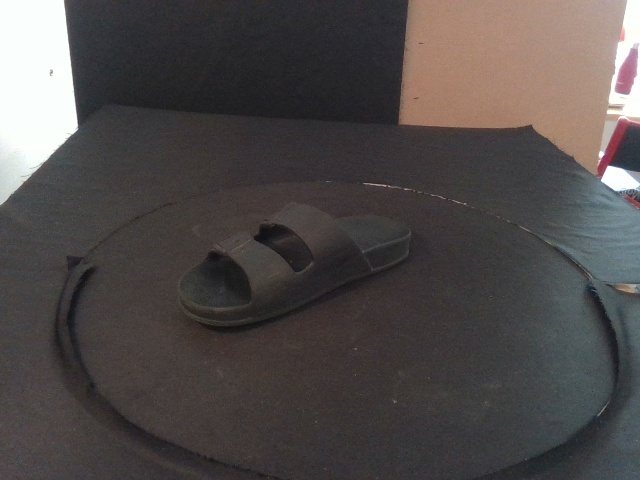shoe: (176, 202, 412, 327)
